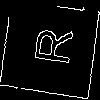R: (25, 24, 74, 67)
